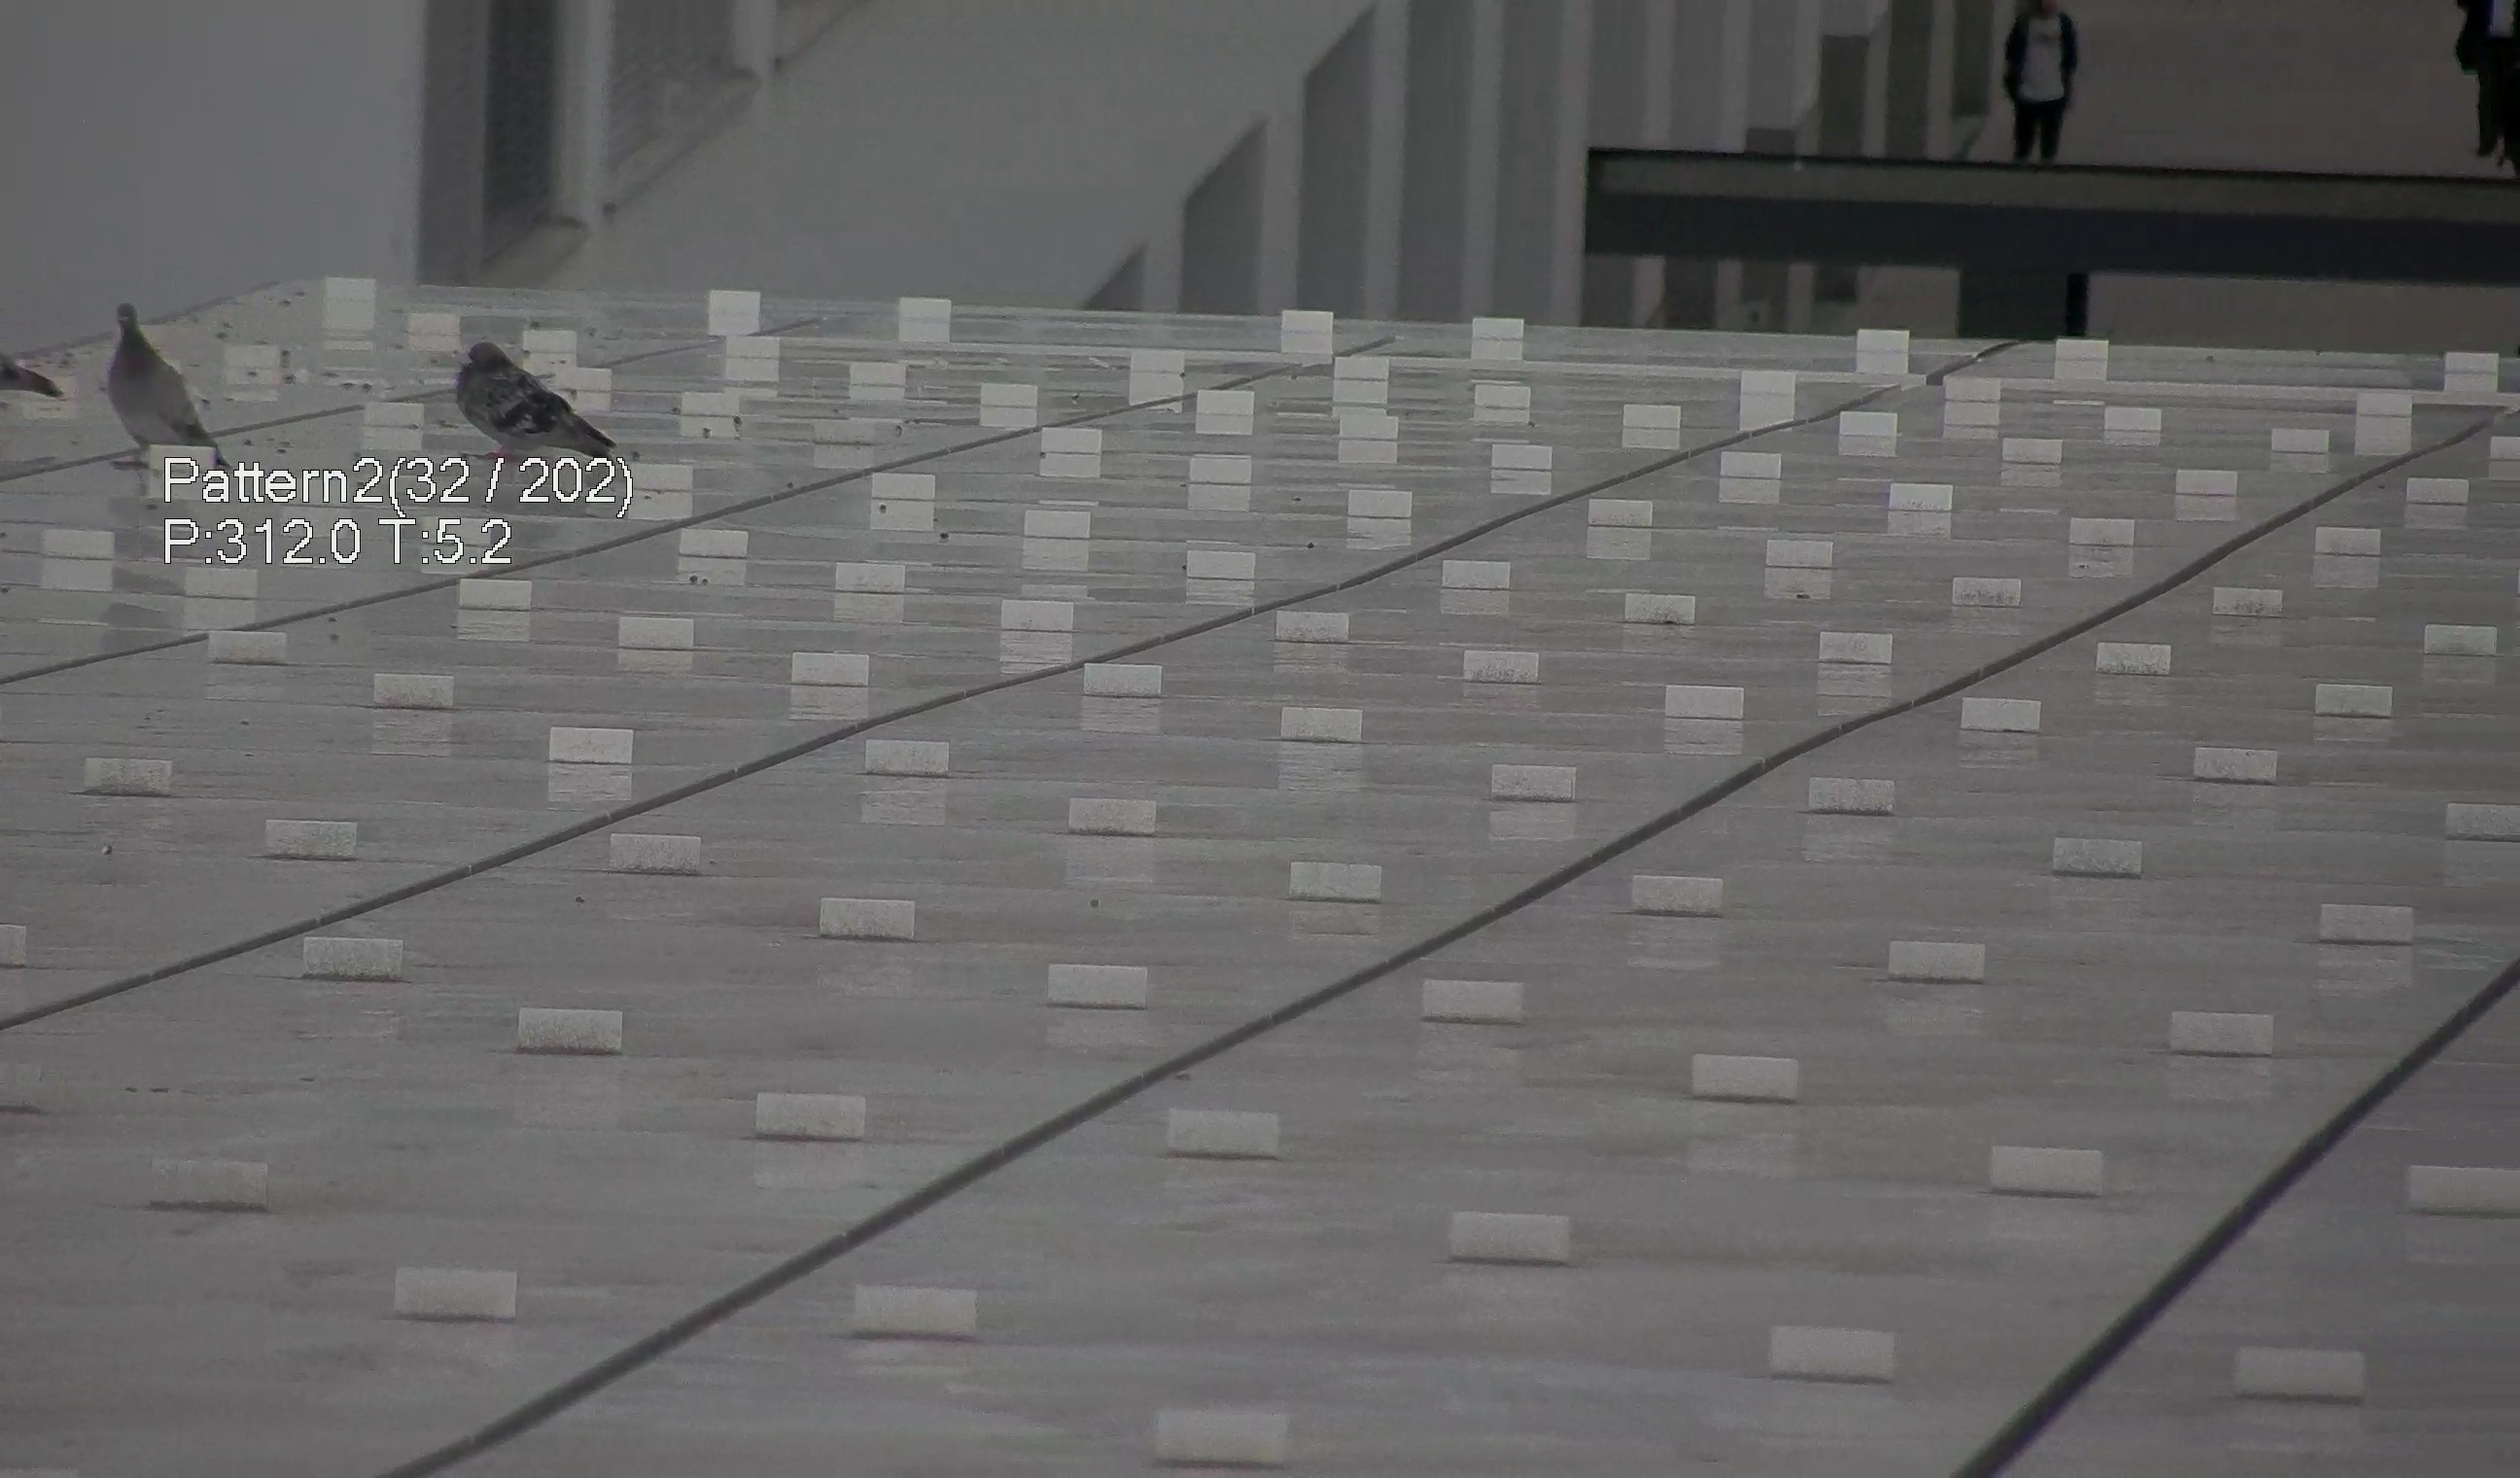Pigeon: (434, 327, 623, 493), (93, 294, 236, 468)
